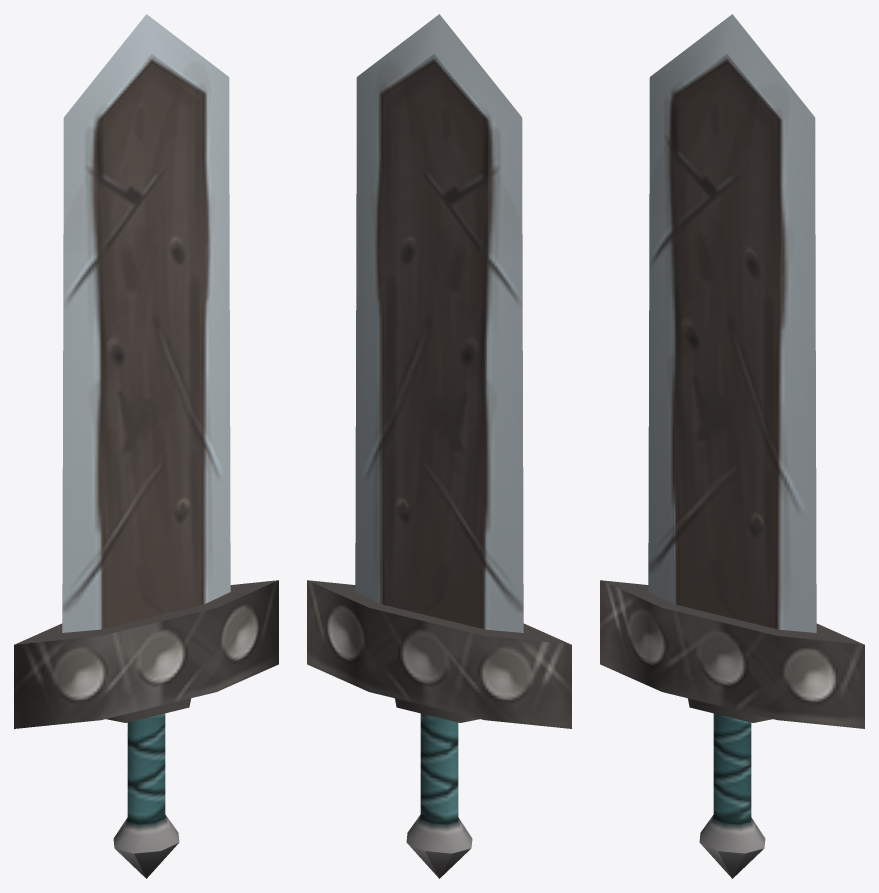
File: warrior_handsword.FBX
The picture shows the model from 3 angles, left to right: view 1: azimuth 30°, elevation 25°; view 2: azimuth 150°, elevation 25°; view 3: azimuth 330°, elevation 25°; orthographic projection.
Parts seen in each view (by area): view 1: warrior_handsword; view 2: warrior_handsword; view 3: warrior_handsword.
Boxes of the visible parts, x1,y1,x2,y2 form: warrior_handsword: (14,14,278,878); warrior_handsword: (307,14,571,878); warrior_handsword: (600,14,864,878).
Bounding box in the file's own units: 53.48 × 167 × 10.08.
